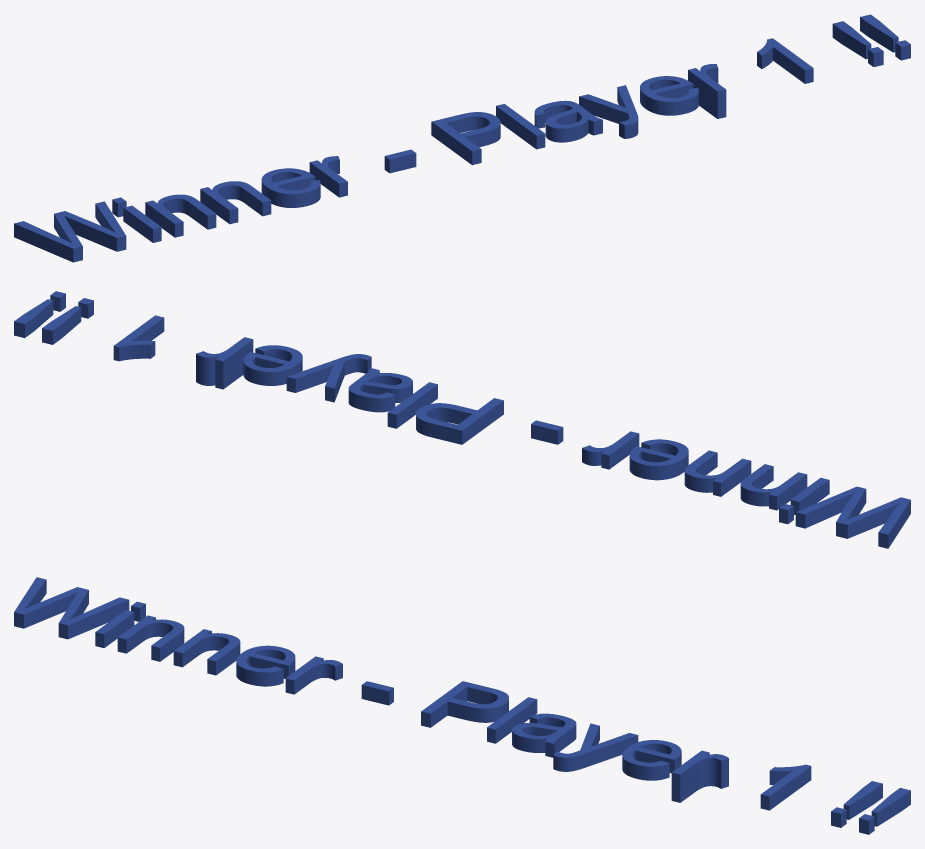
File: p1-win.obj
3 renders of one model, top to bottom at view 1: azimuth 30°, elevation 25°; view 2: azimuth 150°, elevation 25°; view 3: azimuth 330°, elevation 25°, orthographic. The views are drawn at different scales.
Visible parts, largest first — view 1: TextPlus001; view 2: TextPlus001; view 3: TextPlus001.
Boxes of the visible parts, box(x1,y1,x2,y2) form: TextPlus001: box(14, 14, 910, 262); TextPlus001: box(14, 291, 910, 548); TextPlus001: box(14, 577, 910, 834).
Bounding box in the file's own units: 195 × 6 × 20.8.
